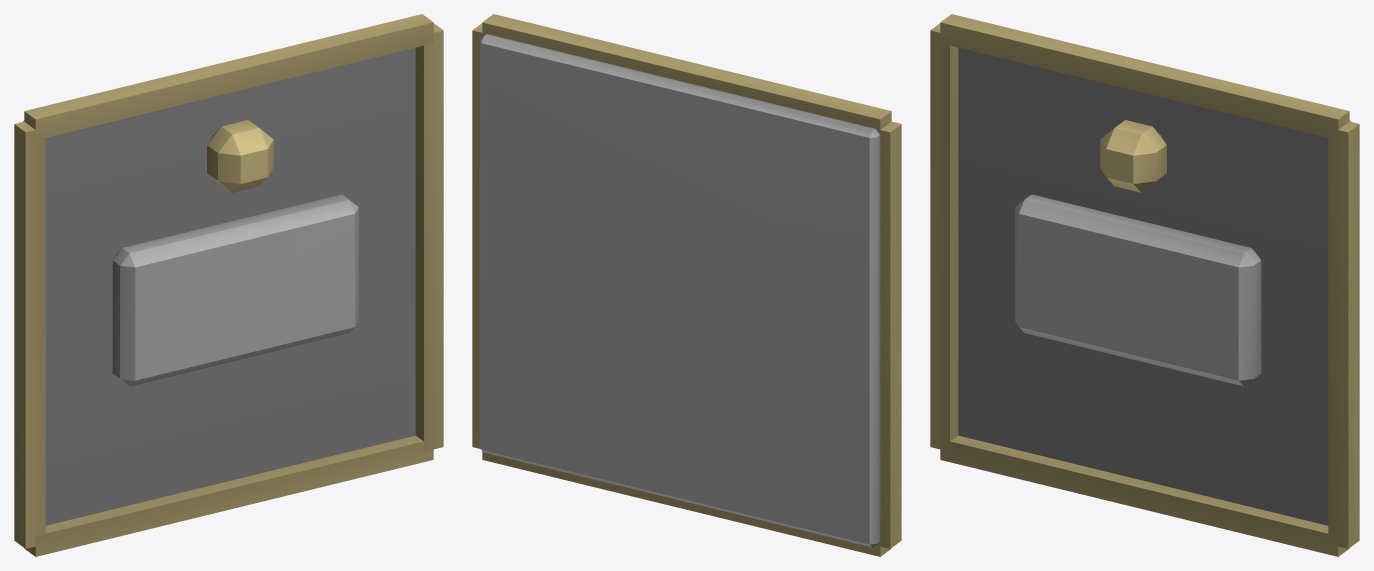
Rendered from gallery_piece.glb.
3 renders of one model, left to right at view 1: azimuth 30°, elevation 25°; view 2: azimuth 150°, elevation 25°; view 3: azimuth 330°, elevation 25°, orthographic.
Parts seen in each view (by area): view 1: button; view 2: button; view 3: button.
Boxes of the visible parts, x1,y1,x2,y2 form: button: (14, 14, 443, 556); button: (472, 14, 901, 556); button: (930, 14, 1359, 556).
Size of the model in its own units: 0.525 by 0.525 by 0.08.
